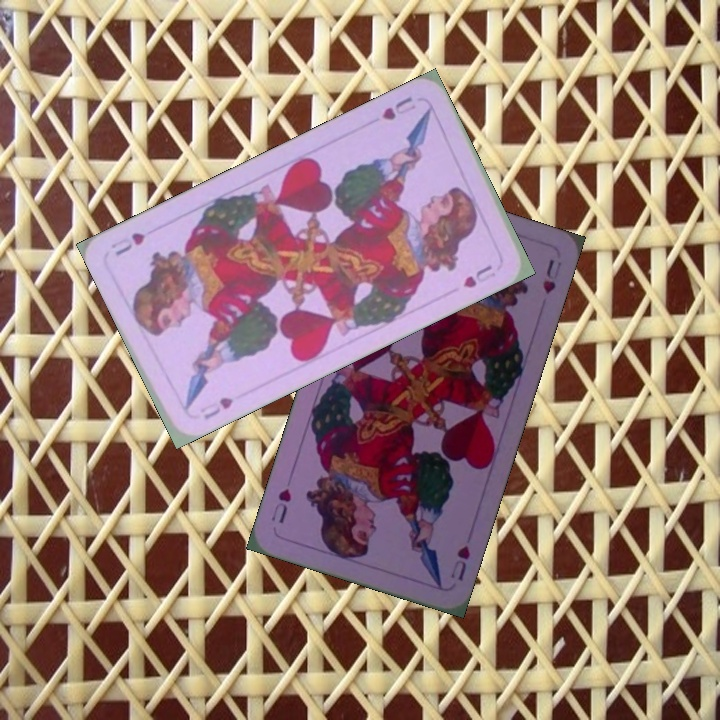HU: (377, 92, 419, 123), (446, 541, 473, 584), (200, 393, 236, 422)
